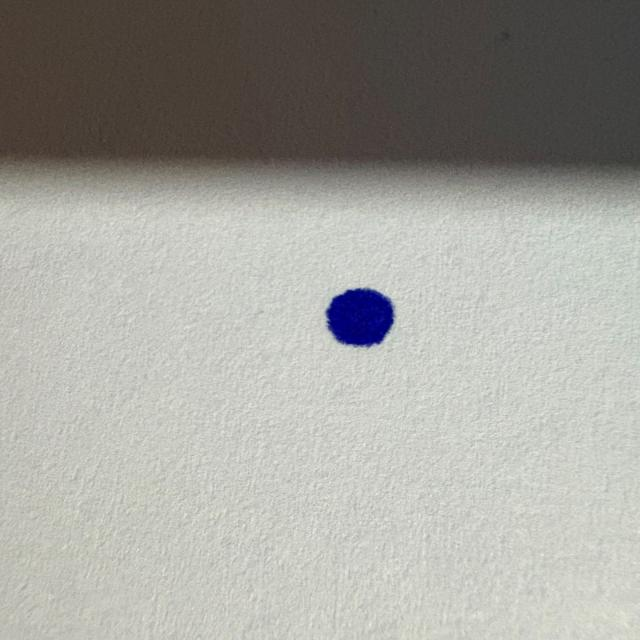Circle: (323, 284, 397, 350)
